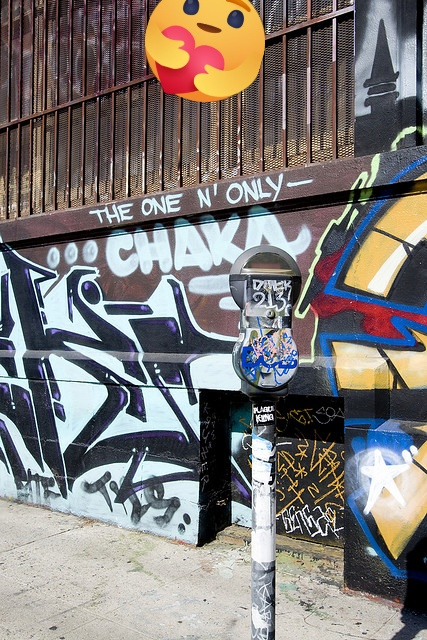care: (145, 0, 265, 102)
